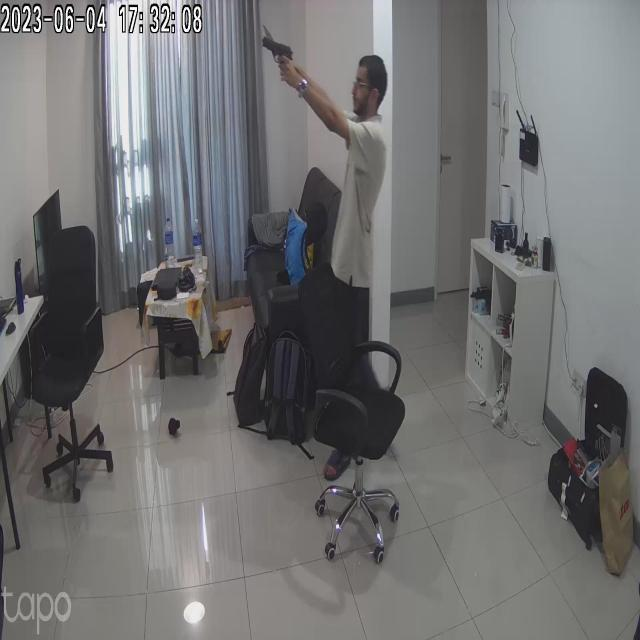Gun: (250, 27, 315, 84)
